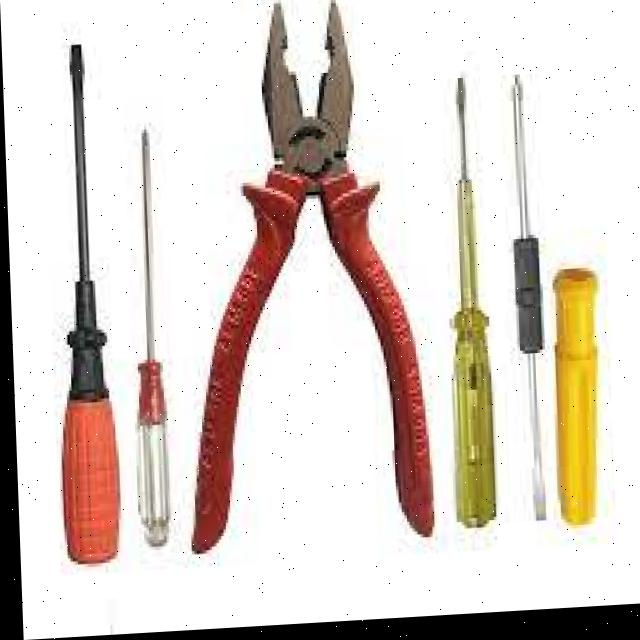Screwdriver: (60, 46, 115, 563), (452, 83, 492, 532), (135, 131, 165, 547), (514, 82, 541, 525), (550, 275, 594, 530)
